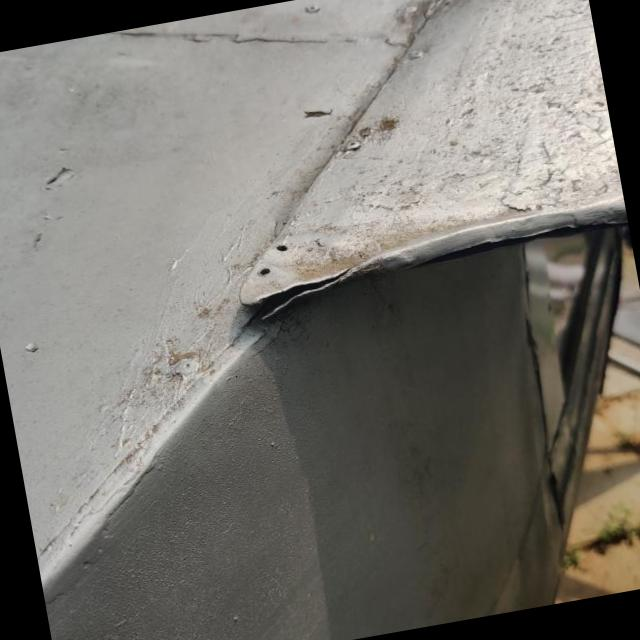Crack: (240, 265, 368, 319)
